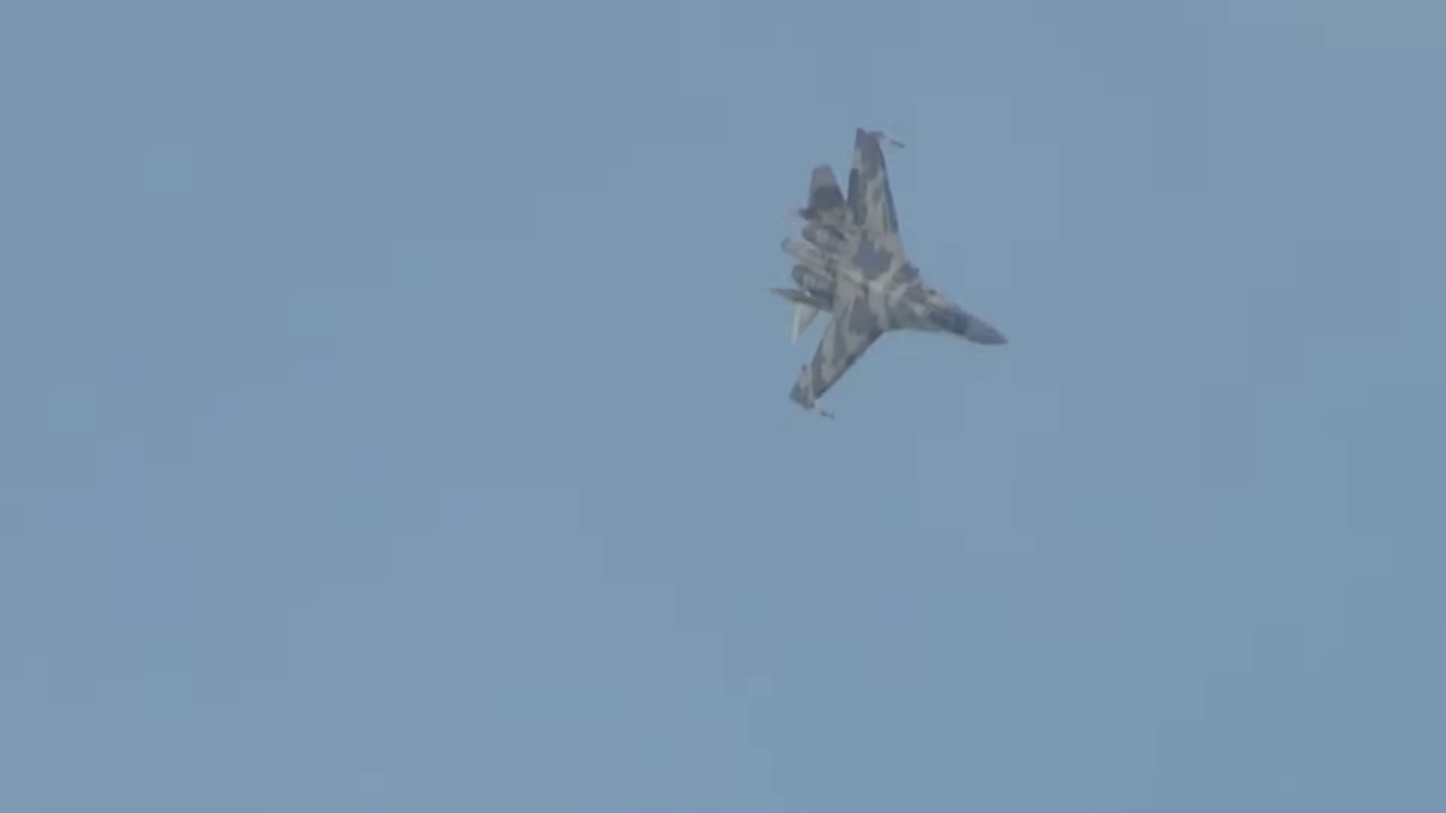Su35: (771, 122, 1015, 419)
